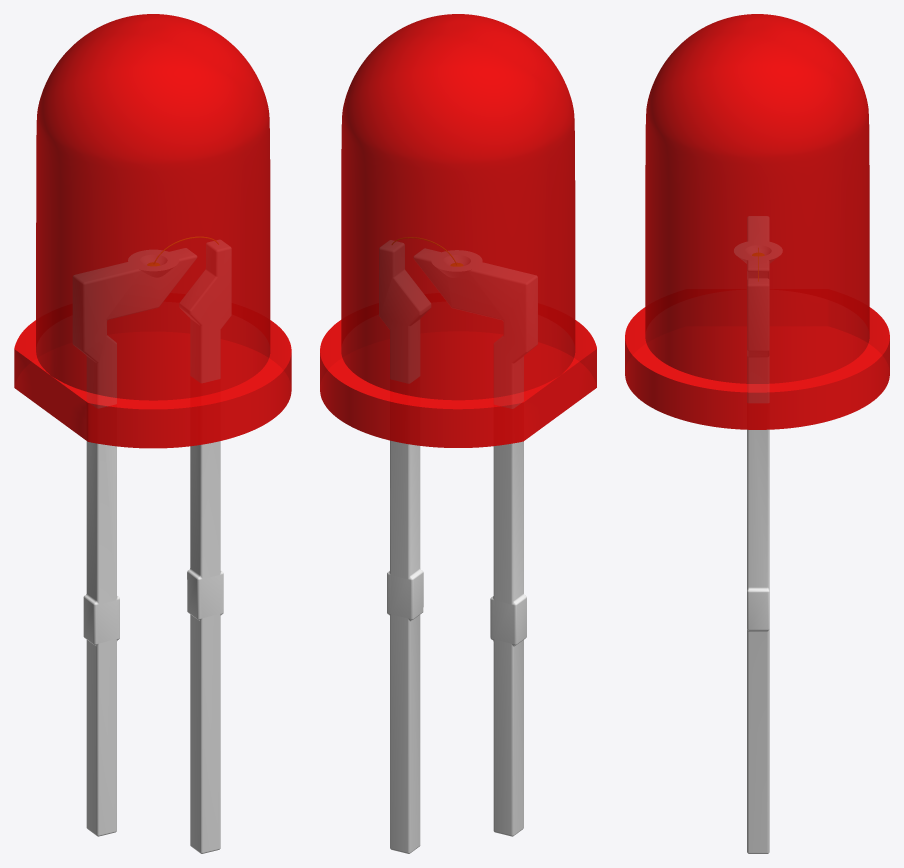
Rendered from led_vermelho.glb.
The picture shows the model from 3 angles, left to right: view 1: azimuth 30°, elevation 25°; view 2: azimuth 150°, elevation 25°; view 3: azimuth 270°, elevation 25°; orthographic projection. The views are drawn at different scales.
Parts seen in each view (by area): view 1: vidro_001-material, aluminio_001-material; view 2: vidro_001-material, aluminio_001-material; view 3: vidro_001-material, aluminio_001-material.
Part boxes in pixels (bbox=[...]): vidro_001-material: bbox=[14, 14, 291, 448]; aluminio_001-material: bbox=[73, 240, 230, 853]; vidro_001-material: bbox=[320, 14, 596, 447]; aluminio_001-material: bbox=[379, 240, 537, 853]; vidro_001-material: bbox=[625, 14, 889, 429]; aluminio_001-material: bbox=[734, 216, 782, 853].
Size of the model in its own units: 5.44 by 19.59 by 5.88.
